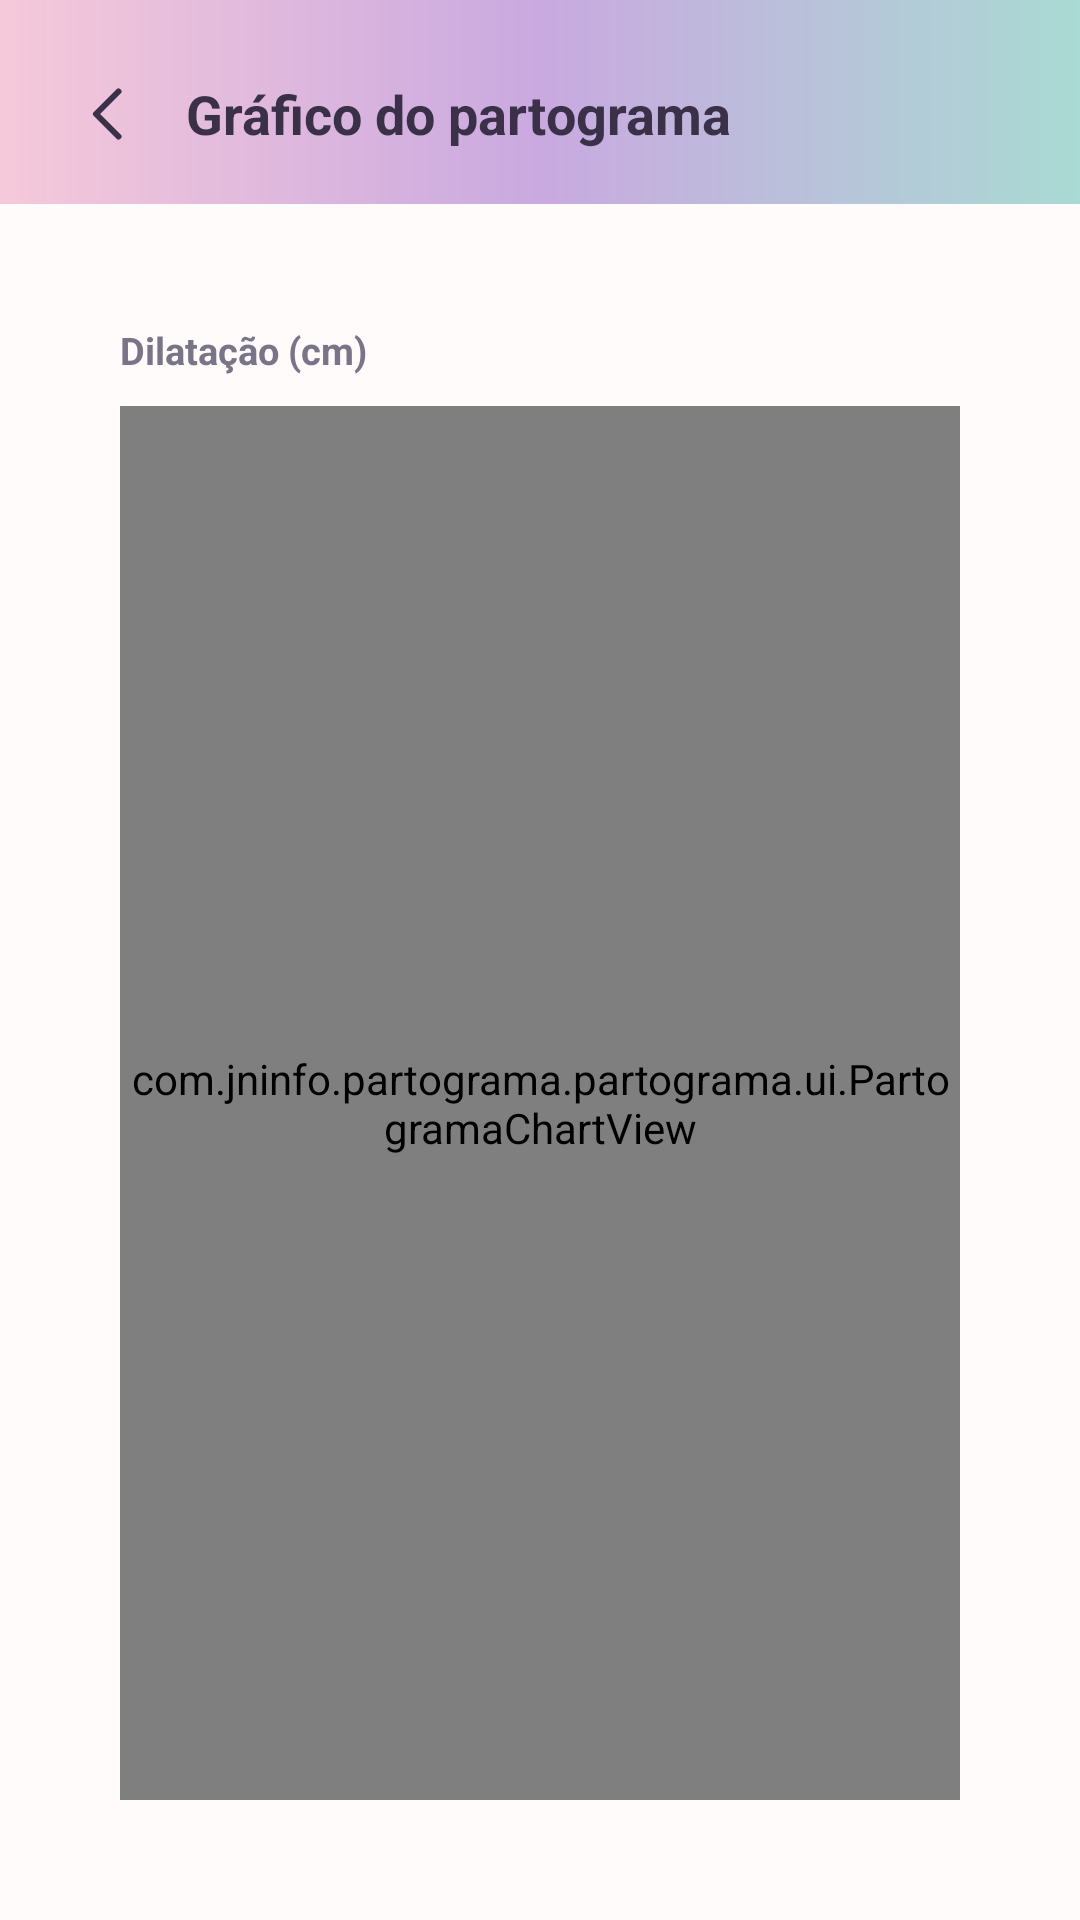

Point at icon controls on the screen. Image size 1080*1920, points as [x,y].
back: [107,114]
